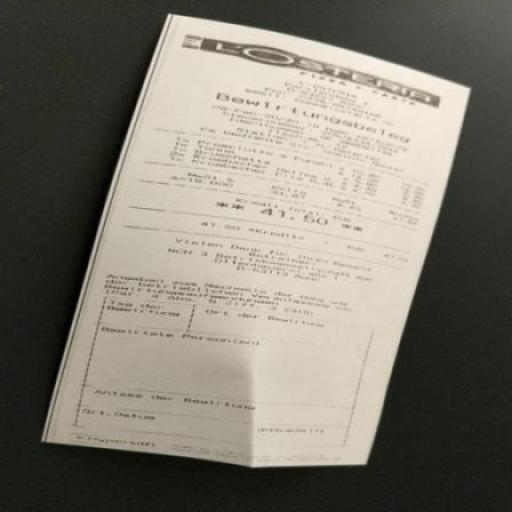paper: (12, 4, 504, 512)
